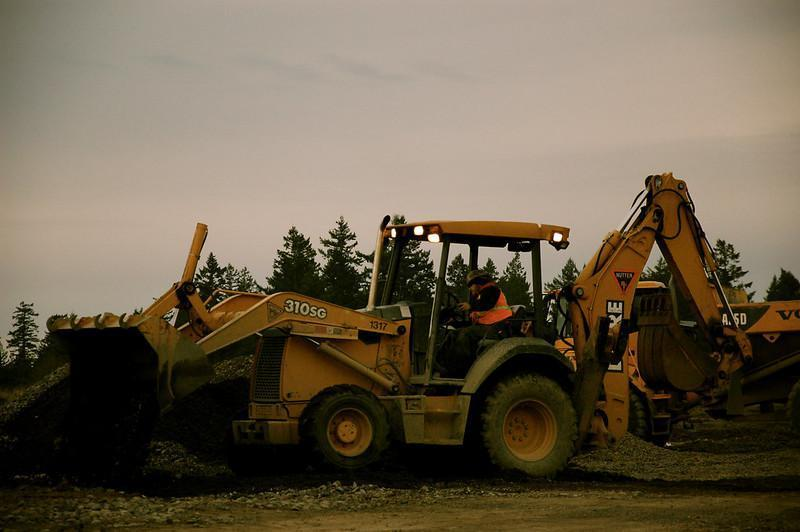Helmet: (464, 268, 488, 282)
Person: (442, 267, 514, 379)
Safety Vest: (466, 282, 512, 326)
